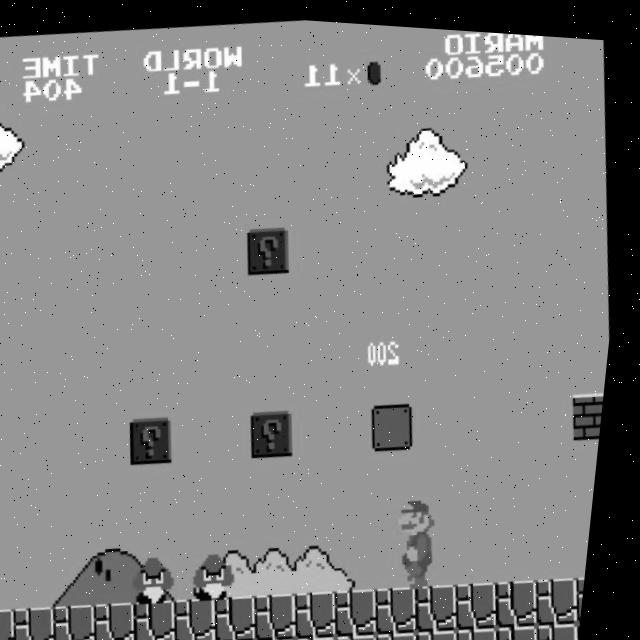0- big_mario: (398, 484, 460, 586)
1- brick_block: (576, 381, 612, 433)
13- mystery_block: (255, 403, 305, 456), (135, 411, 185, 464), (248, 221, 298, 273)
17- undestructible_block: (262, 585, 313, 639), (463, 571, 513, 625), (423, 574, 473, 628), (383, 577, 433, 631), (303, 582, 353, 636), (222, 588, 273, 640), (543, 566, 593, 619), (503, 569, 553, 622), (343, 580, 393, 633), (182, 591, 232, 640), (142, 594, 192, 640), (102, 597, 152, 640), (62, 599, 112, 640), (23, 602, 72, 640), (547, 611, 592, 640), (507, 614, 552, 640), (0, 605, 32, 640), (467, 617, 512, 640), (427, 620, 472, 640), (387, 622, 432, 640), (346, 625, 392, 640), (584, 563, 597, 614), (306, 628, 352, 640), (266, 631, 311, 640), (227, 634, 271, 640), (187, 637, 231, 640), (147, 639, 191, 640)
3- empty_block: (375, 394, 426, 448)
8- goomba: (140, 548, 194, 604), (200, 543, 253, 600)
